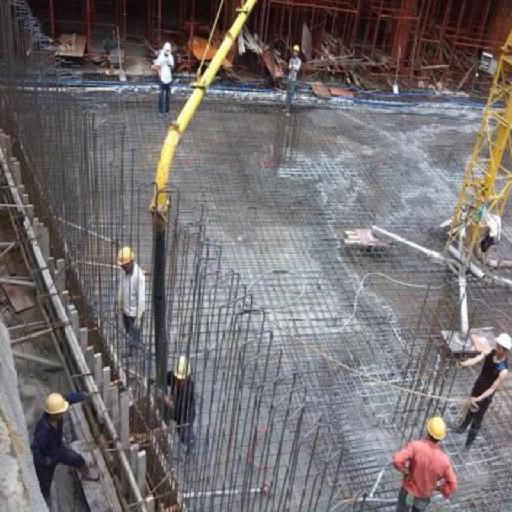hardhat: (42, 390, 72, 416), (426, 412, 451, 442), (116, 245, 138, 266)
person: (23, 379, 105, 500), (444, 324, 510, 452), (384, 410, 462, 506), (105, 237, 151, 362), (160, 348, 208, 457), (148, 32, 182, 122), (280, 40, 306, 122)
